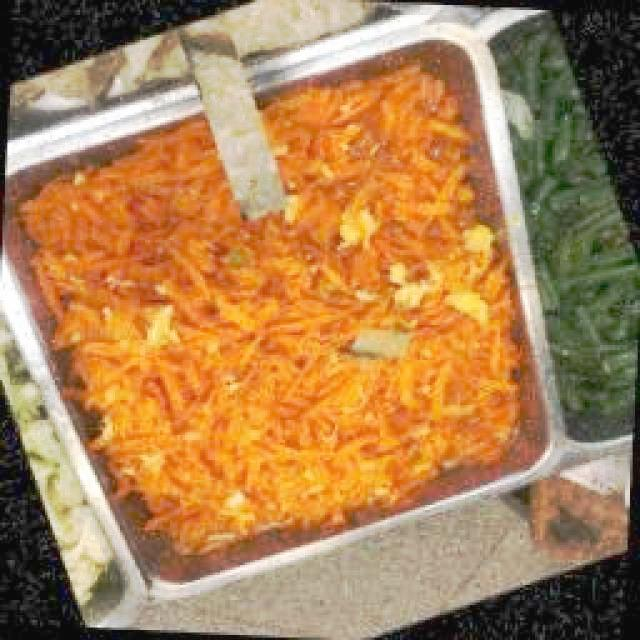carrot_eggs: (20, 60, 524, 554)
water_spinach: (487, 13, 638, 442)
